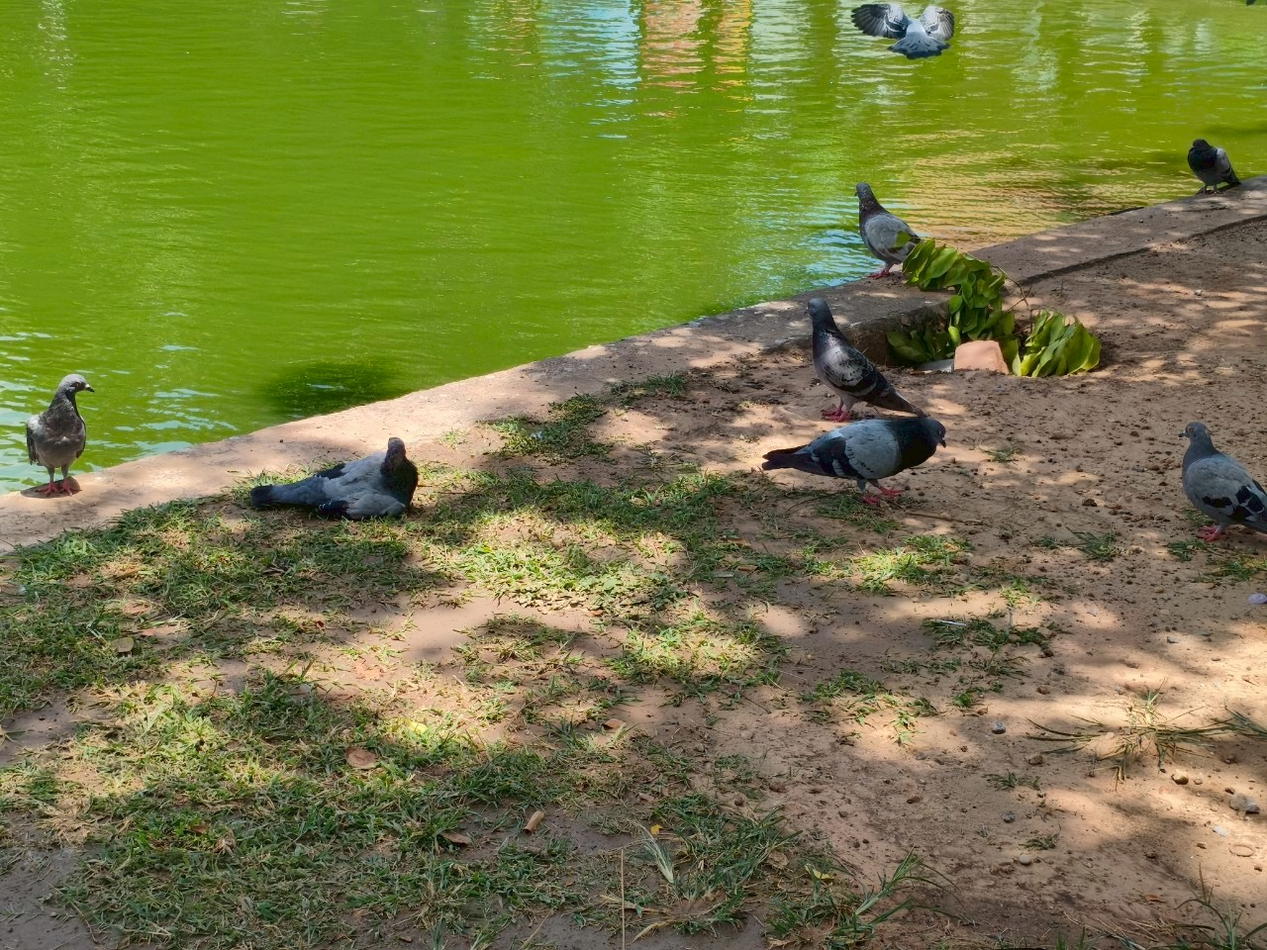Pigeon: (809, 297, 925, 421), (251, 437, 418, 520), (763, 417, 944, 489), (1182, 423, 1266, 539), (26, 374, 92, 496), (856, 182, 920, 276), (852, 3, 953, 58), (1188, 139, 1240, 191)
